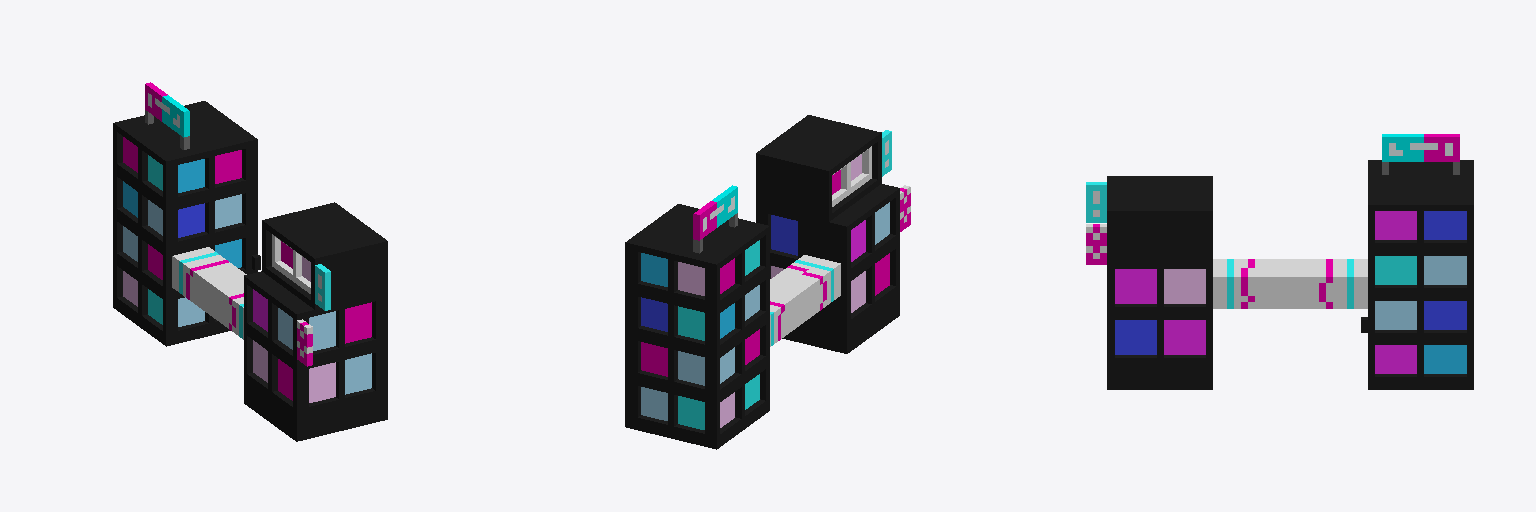
3 views of the same model, side by side, from view 1: azimuth 30°, elevation 25°; view 2: azimuth 150°, elevation 25°; view 3: azimuth 270°, elevation 25° (orthographic).
Visible parts, largest first — view 1: object 1; view 2: object 1; view 3: object 1.
Part boxes in pixels (left/top/right/bottom): object 1: left=113, top=82, right=387, bottom=441; object 1: left=625, top=115, right=910, bottom=449; object 1: left=1086, top=134, right=1473, bottom=389.
Size of the model in its own units: 1.5 by 3.5 by 5.5.
Materials: 1 (1 with a texture image).